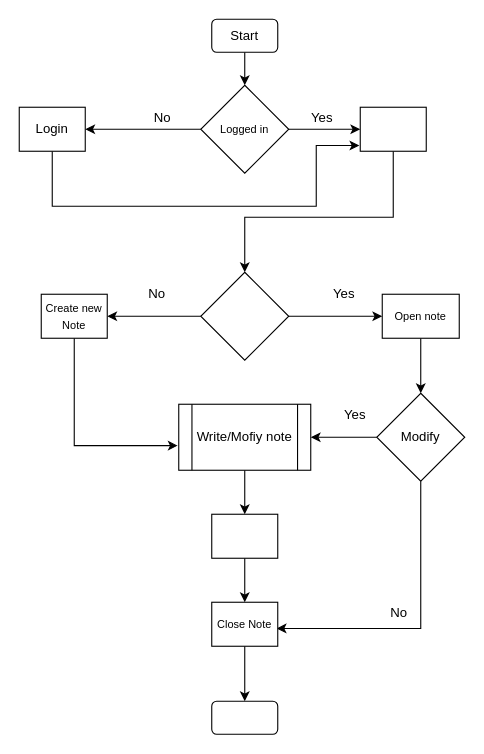
The diagram is 484 pixels wide and 754 high, and some of its shapes have lost their labels. The shapes that lost their labels are listed below. From the top down, each one's centre as x and y in pixels, then its label:
At point 392,128: "Tap on Any location".
At point 244,315: "Note Exist".
At point 244,535: "Save Note".
At point 244,717: "Stop".
